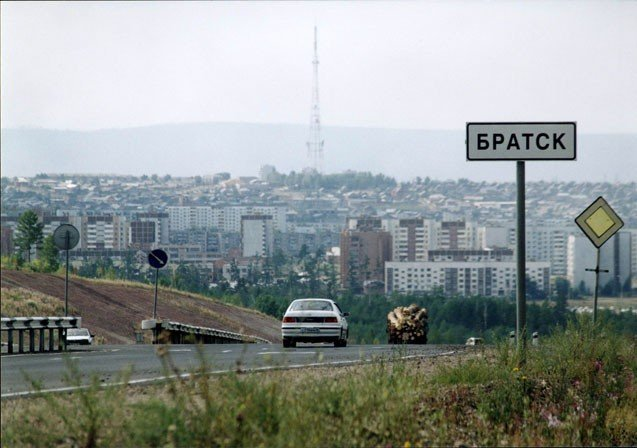sign: (573, 194, 626, 249), (144, 247, 170, 271)
